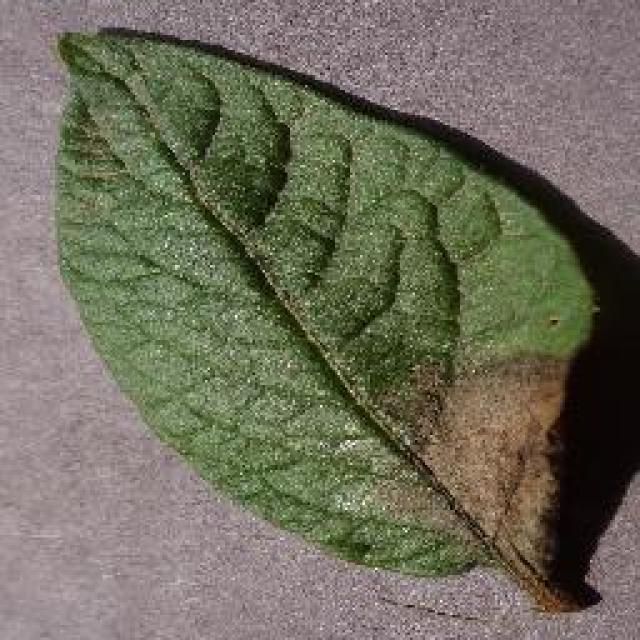late_blight: (45, 20, 637, 615)
